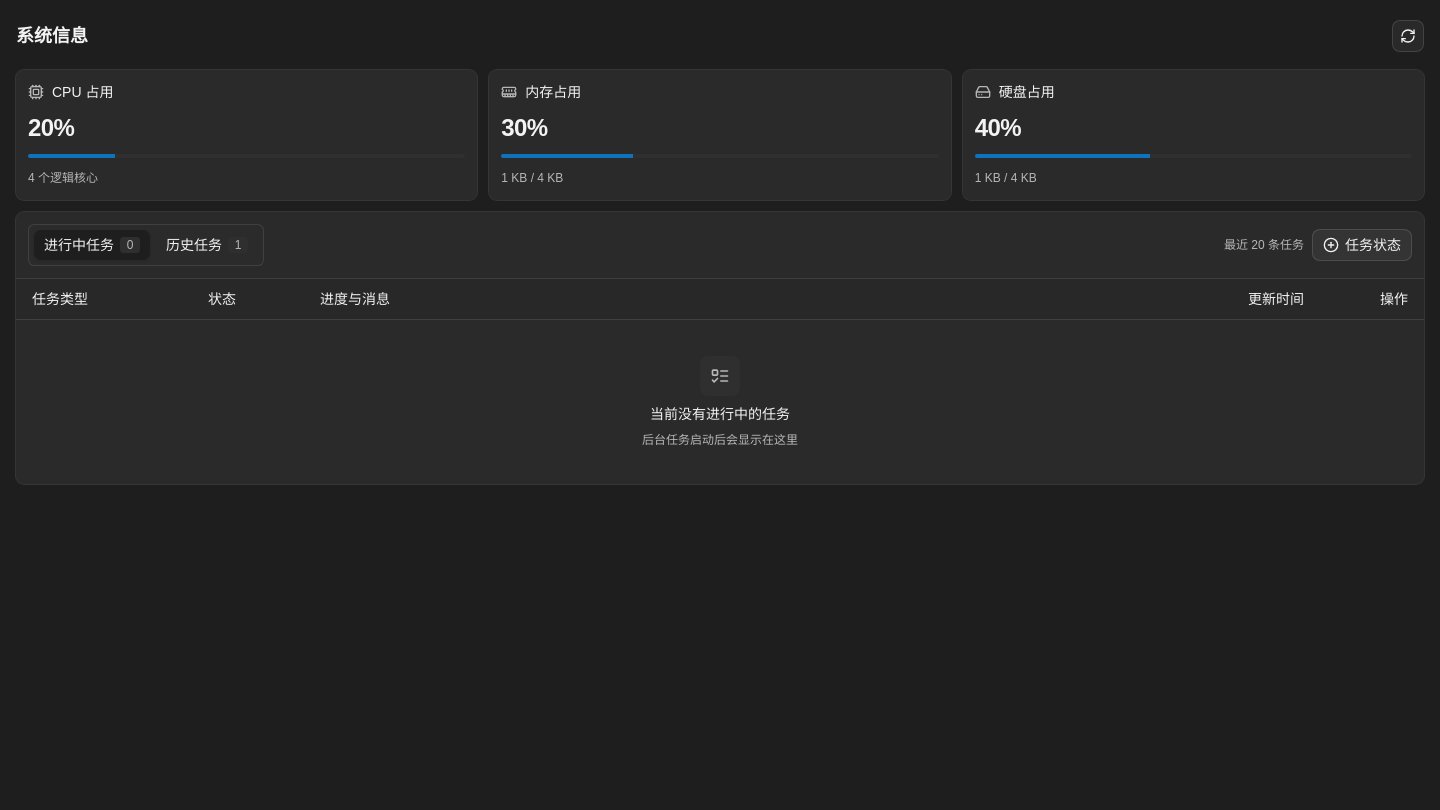
Test: 系统信息首次打开且未查看旧任务时不读取完整账号列表
The width and height of the screenshot is (1440, 810).
Click the tab "历史任务 1". click: click(207, 245)
box: [155, 229, 259, 261]
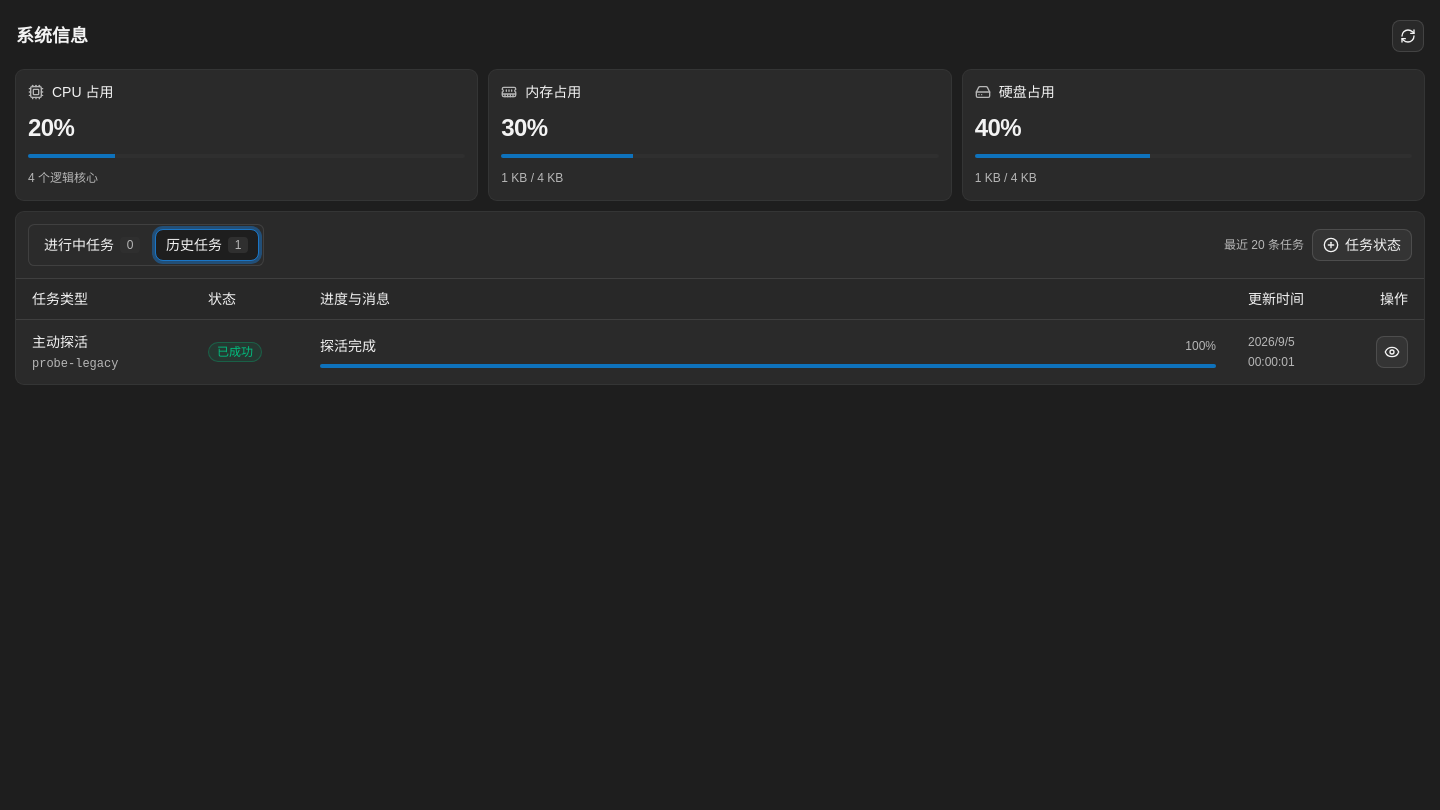
Click the button named "查看任务". click: click(1392, 352)
box: [1376, 336, 1408, 368]
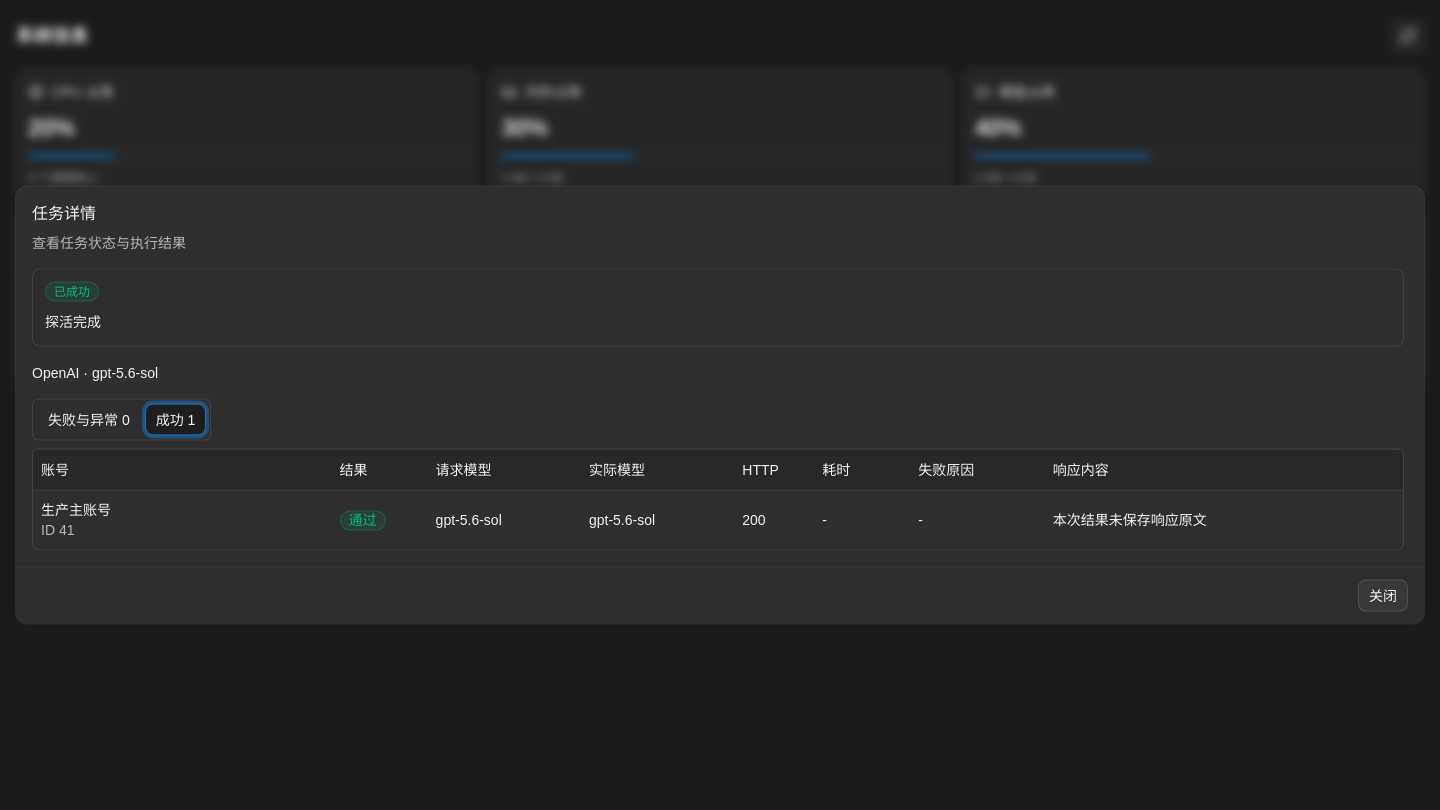
Expected: the text "生产主账号" is shown, [41, 502, 111, 518]
